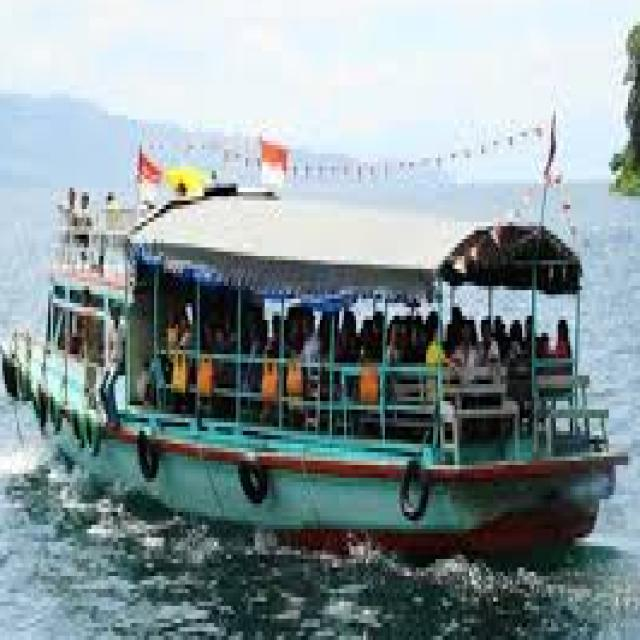passenger ship: (0, 105, 612, 542)
